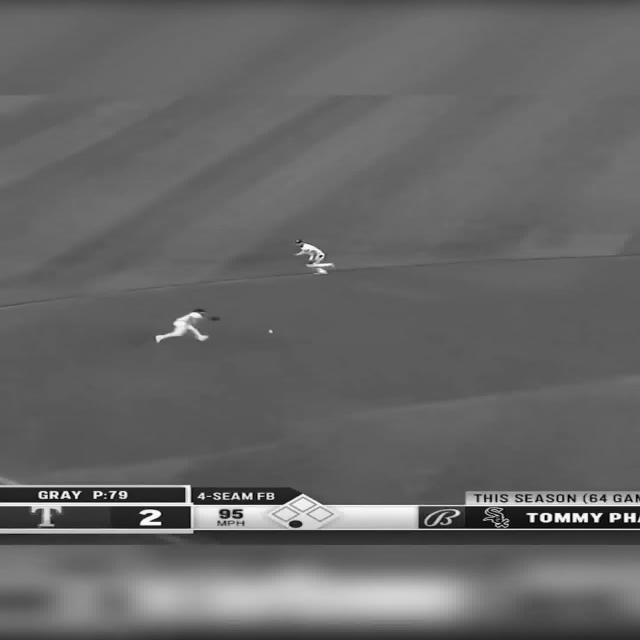baseball: (267, 329, 273, 334)
shoe: (196, 335, 208, 341), (154, 335, 162, 343)
